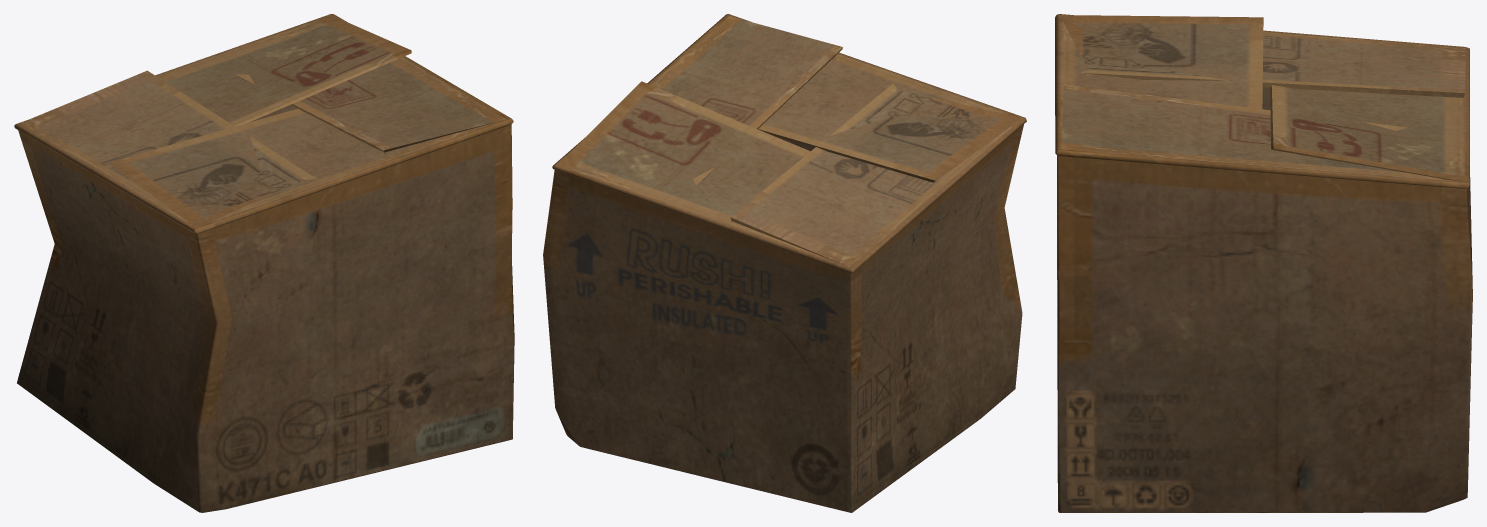
The model's file is CardboardBox_VarD.fbx.
The picture shows the model from 3 angles, left to right: view 1: azimuth 30°, elevation 25°; view 2: azimuth 150°, elevation 25°; view 3: azimuth 270°, elevation 25°; orthographic projection. The views are drawn at different scales.
Parts seen in each view (by area): view 1: CardboardBox_VarD_LOD0; view 2: CardboardBox_VarD_LOD0; view 3: CardboardBox_VarD_LOD0.
Part boxes in pixels (left/top/right/bottom): CardboardBox_VarD_LOD0: left=14, top=14, right=514, bottom=512; CardboardBox_VarD_LOD0: left=543, top=14, right=1026, bottom=512; CardboardBox_VarD_LOD0: left=1055, top=14, right=1472, bottom=512.
Size of what is drawn, in the model's own units: 70.45 by 65.26 by 68.34.
